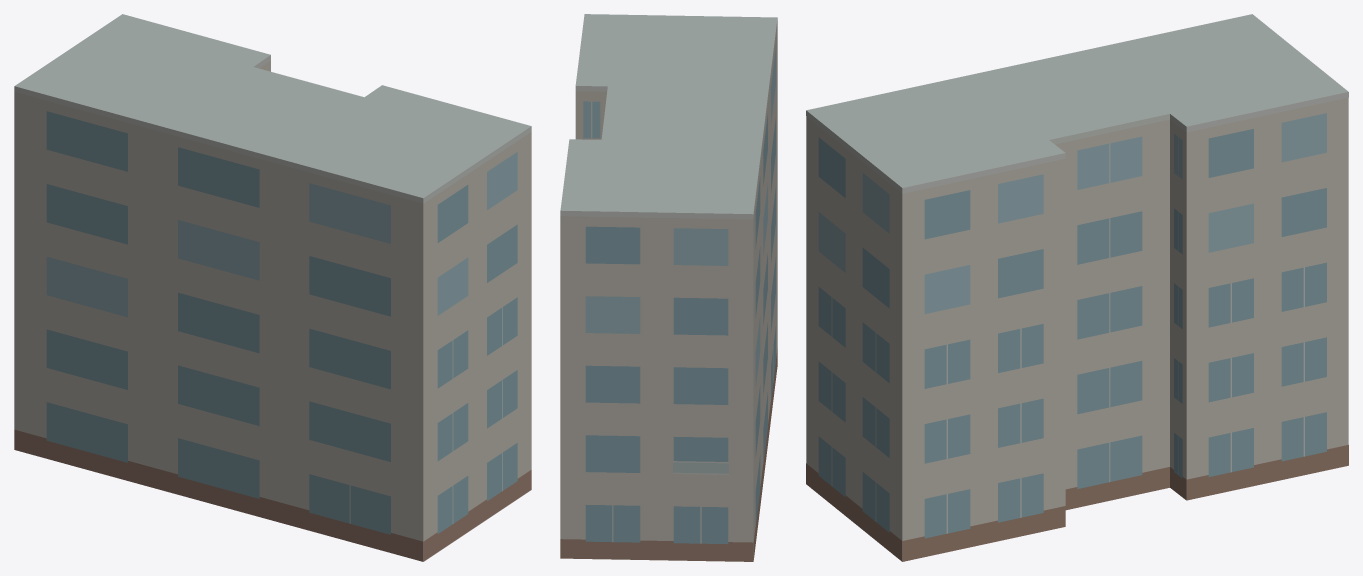
The model's file is survey-upis-33025935.glb.
3 renders of one model, left to right at view 1: azimuth 30°, elevation 25°; view 2: azimuth 150°, elevation 25°; view 3: azimuth 270°, elevation 25°, orthographic. The views are drawn at different scales.
Visible parts, largest first — view 1: survey-upis-33025935.tmp; view 2: survey-upis-33025935.tmp; view 3: survey-upis-33025935.tmp.
Boxes of the visible parts, bbox=[...] form: survey-upis-33025935.tmp: bbox=[14, 14, 531, 561]; survey-upis-33025935.tmp: bbox=[560, 14, 777, 561]; survey-upis-33025935.tmp: bbox=[806, 14, 1348, 561].
Bounding box in the file's own units: 16.04 × 16.05 × 21.12.
